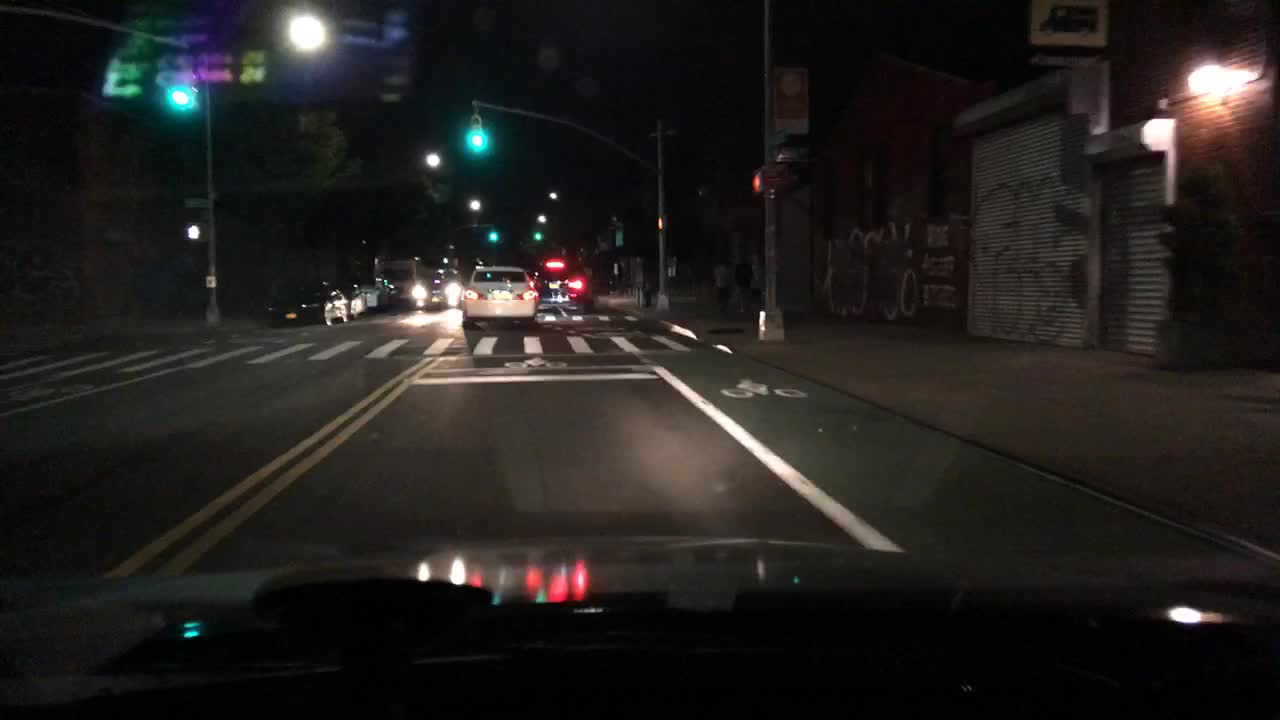bus: (373, 257, 443, 310)
car: (463, 263, 538, 328), (267, 274, 349, 328), (533, 256, 592, 312), (332, 279, 368, 320), (433, 267, 466, 307), (355, 274, 391, 309)
person: (730, 247, 756, 311), (709, 255, 735, 313), (749, 246, 765, 301), (636, 265, 654, 307)
traffic light: (750, 157, 794, 195), (466, 110, 488, 151), (162, 83, 194, 109), (184, 219, 211, 241)
traffic sign: (115, 13, 411, 92), (1026, 3, 1111, 66), (770, 66, 808, 135), (184, 193, 211, 210), (612, 226, 622, 247)
